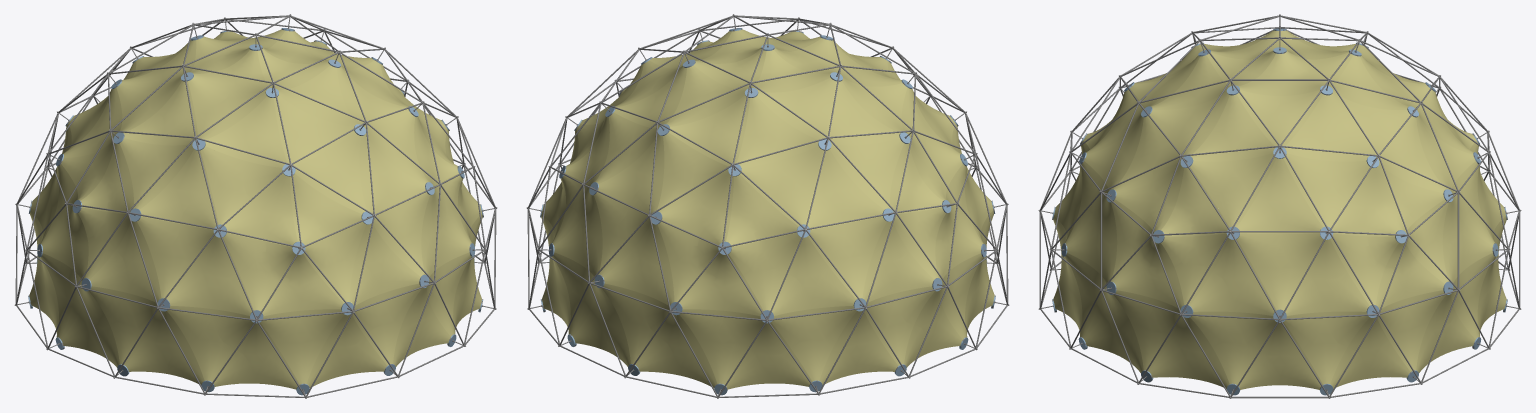
File: TentDome.dae
The picture shows the model from 3 angles, left to right: view 1: azimuth 30°, elevation 25°; view 2: azimuth 150°, elevation 25°; view 3: azimuth 270°, elevation 25°; orthographic projection.
Visible parts, largest first — view 1: Tent_Hex_Tri (×42), Tent_Pent_Tri (×19); view 2: Tent_Hex_Tri (×42), Tent_Pent_Tri (×19); view 3: Tent_Hex_Tri (×42), Tent_Pent_Tri (×15).
Boxes of the visible parts, x1,y1,x2,y2 form: Tent_Hex_Tri (×42): (29,31,482,389); Tent_Pent_Tri (×19): (41,29,481,316); Tent_Hex_Tri (×42): (541,31,994,389); Tent_Pent_Tri (×19): (542,29,982,316); Tent_Hex_Tri (×42): (1053,55,1506,389); Tent_Pent_Tri (×15): (1111,30,1448,309).
Size of the model in its own units: 247 by 247 by 151.
